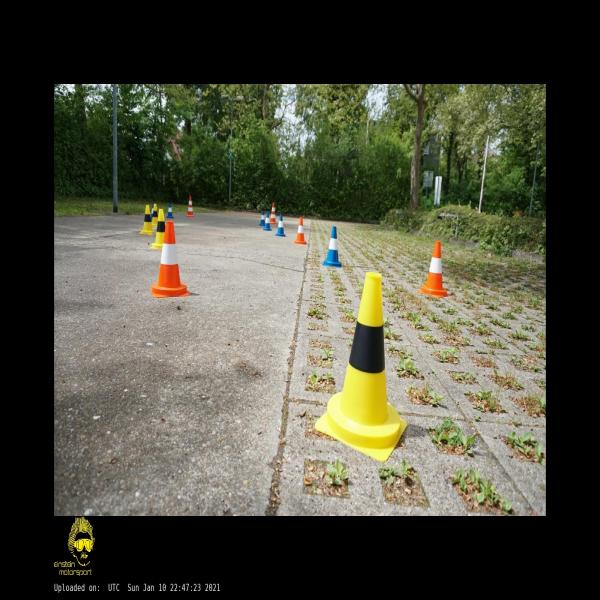blue_cone: (322, 226, 342, 268), (275, 214, 286, 237), (263, 211, 272, 231), (166, 203, 174, 218), (259, 210, 265, 226), (150, 202, 154, 220)
large_orange_cone: (186, 195, 195, 217), (270, 202, 277, 224)
orange_cone: (150, 221, 190, 298), (418, 241, 450, 297), (295, 216, 307, 244)
yellow_cone: (314, 272, 408, 461), (151, 209, 165, 248), (139, 204, 155, 235), (152, 204, 158, 226)
